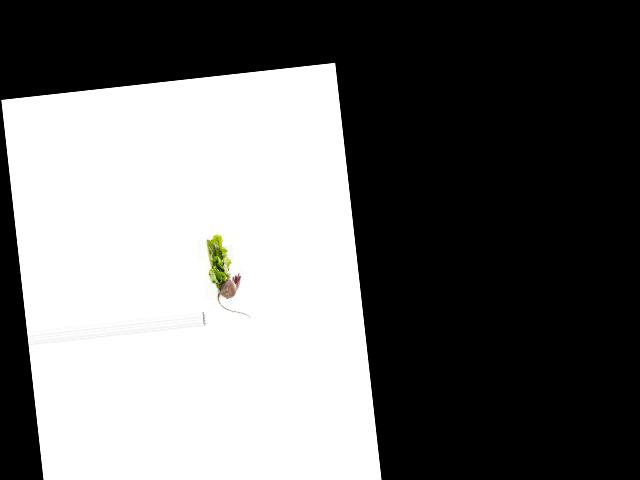beet: (214, 272, 250, 322)
